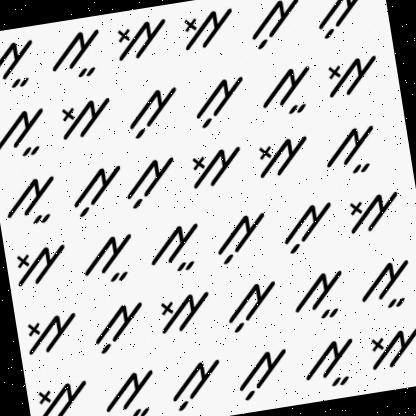wah: (350, 246, 416, 317), (294, 330, 362, 398), (42, 21, 110, 83), (315, 119, 382, 181), (143, 217, 207, 280), (0, 170, 64, 232), (289, 262, 351, 323), (258, 62, 320, 122), (78, 230, 141, 288), (97, 363, 165, 416), (0, 28, 47, 98), (0, 102, 52, 165)
wo: (110, 7, 174, 75), (336, 183, 406, 239), (6, 234, 71, 294), (150, 284, 218, 340), (173, 0, 238, 58), (18, 302, 84, 359), (250, 128, 314, 184), (54, 92, 117, 147), (28, 366, 95, 416), (186, 140, 247, 193), (322, 47, 382, 98), (362, 318, 416, 374)
wu: (185, 65, 253, 135), (58, 155, 128, 219), (220, 272, 286, 338), (206, 206, 272, 268), (165, 344, 227, 410), (86, 295, 152, 356), (121, 82, 186, 143), (276, 195, 338, 256), (234, 340, 294, 402), (122, 152, 186, 210), (246, 0, 306, 56), (307, 0, 374, 45)
